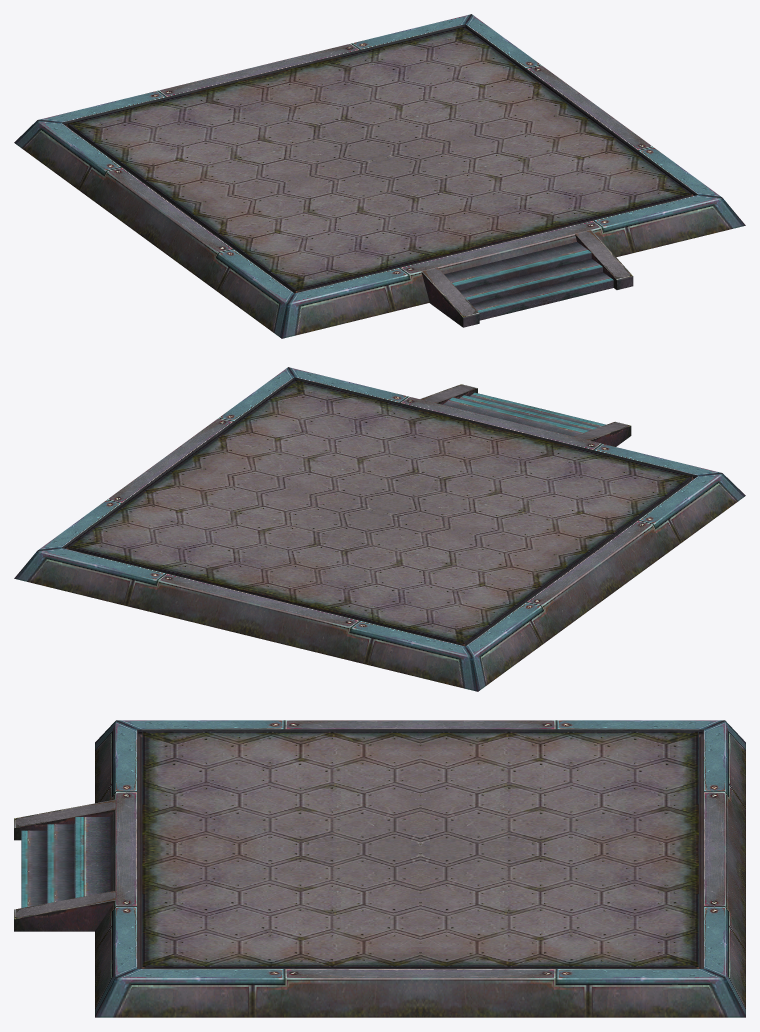
The model's file is yw_huanghunbianjing_taizi01.FBX.
3 renders of one model, top to bottom at view 1: azimuth 30°, elevation 25°; view 2: azimuth 150°, elevation 25°; view 3: azimuth 270°, elevation 25°, orthographic. The views are drawn at different scales.
Parts seen in each view (by area): view 1: yw_huanghunbianjing_taizi01; view 2: yw_huanghunbianjing_taizi01; view 3: yw_huanghunbianjing_taizi01.
Boxes of the visible parts, x1,y1,x2,y2 form: yw_huanghunbianjing_taizi01: (14,14,745,338); yw_huanghunbianjing_taizi01: (14,367,745,691); yw_huanghunbianjing_taizi01: (14,720,745,1017).
Bounding box in the file's own units: 492 × 26.25 × 554.
